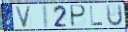2: (53, 4, 70, 29)
I: (43, 4, 50, 30)
L: (89, 6, 104, 27)
P: (71, 4, 88, 28)
U: (105, 3, 124, 27)
V: (14, 6, 33, 29)
